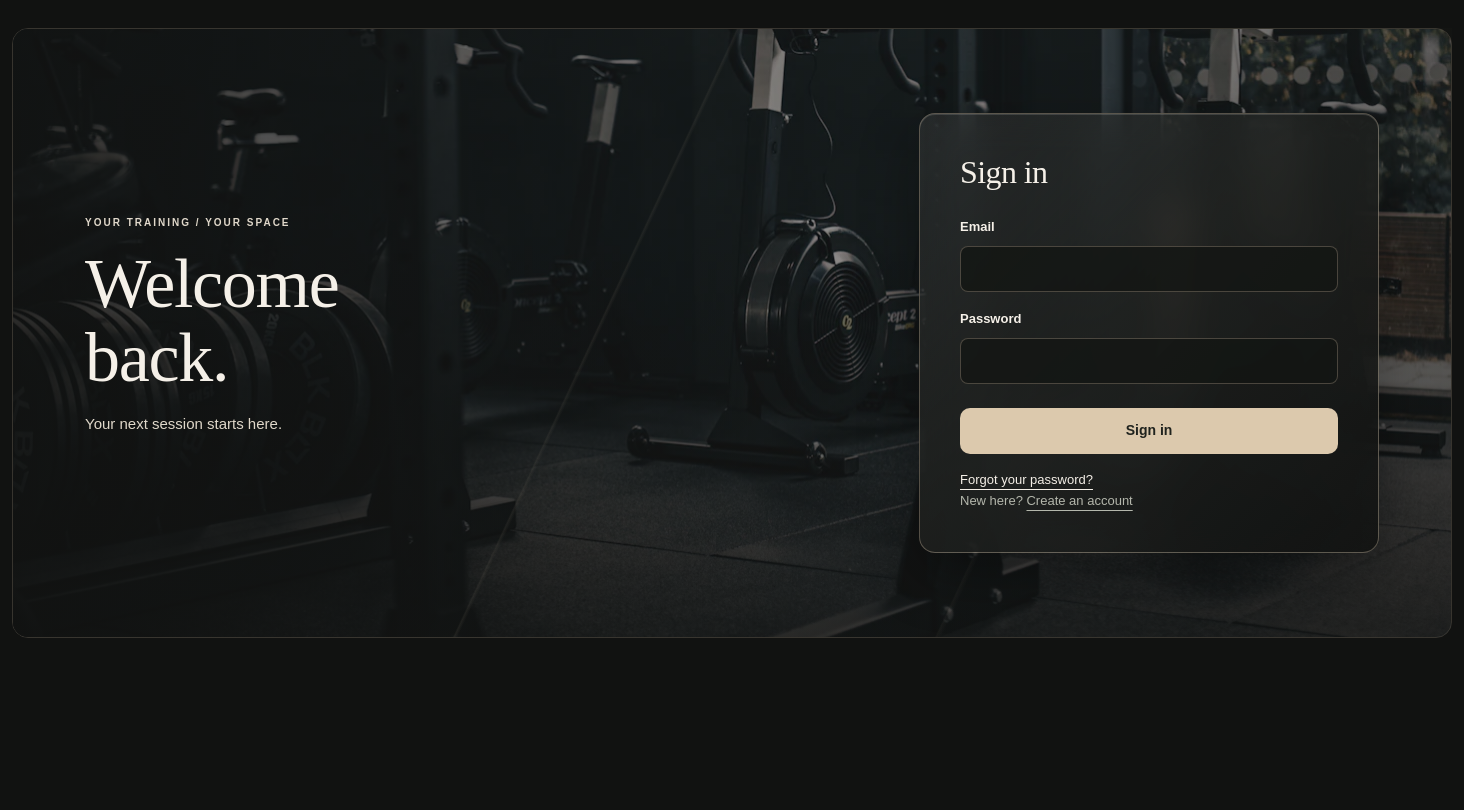
Test case: failed login stays on the form and does not expose server error details
The width and height of the screenshot is (1464, 810).
In the field labelled "Email": (1149, 269) [960,246,1338,292], type "example@example.test"
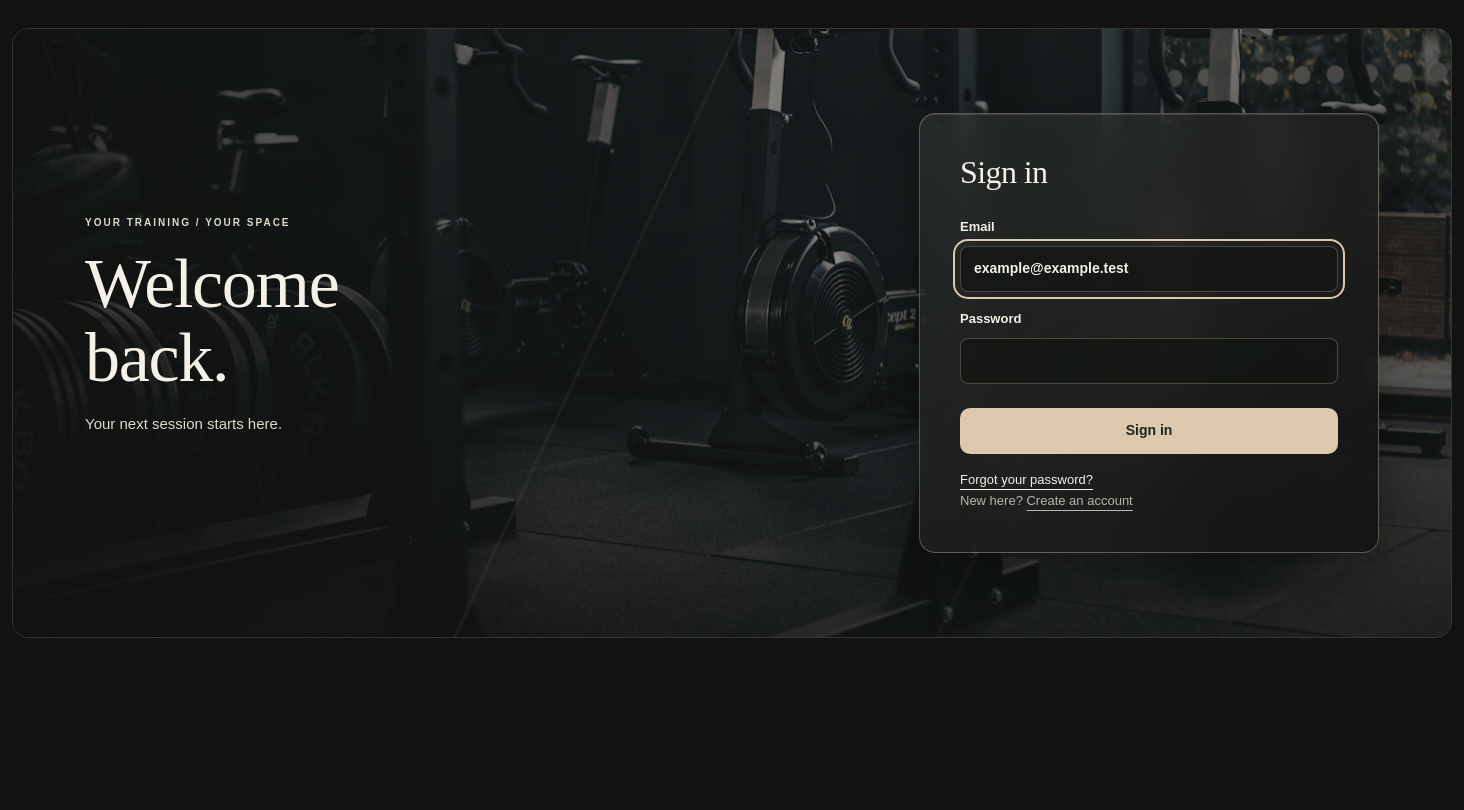
In the password field labelled "Password": (1149, 361) [960,338,1338,384], type "synthetic-test-only-password"
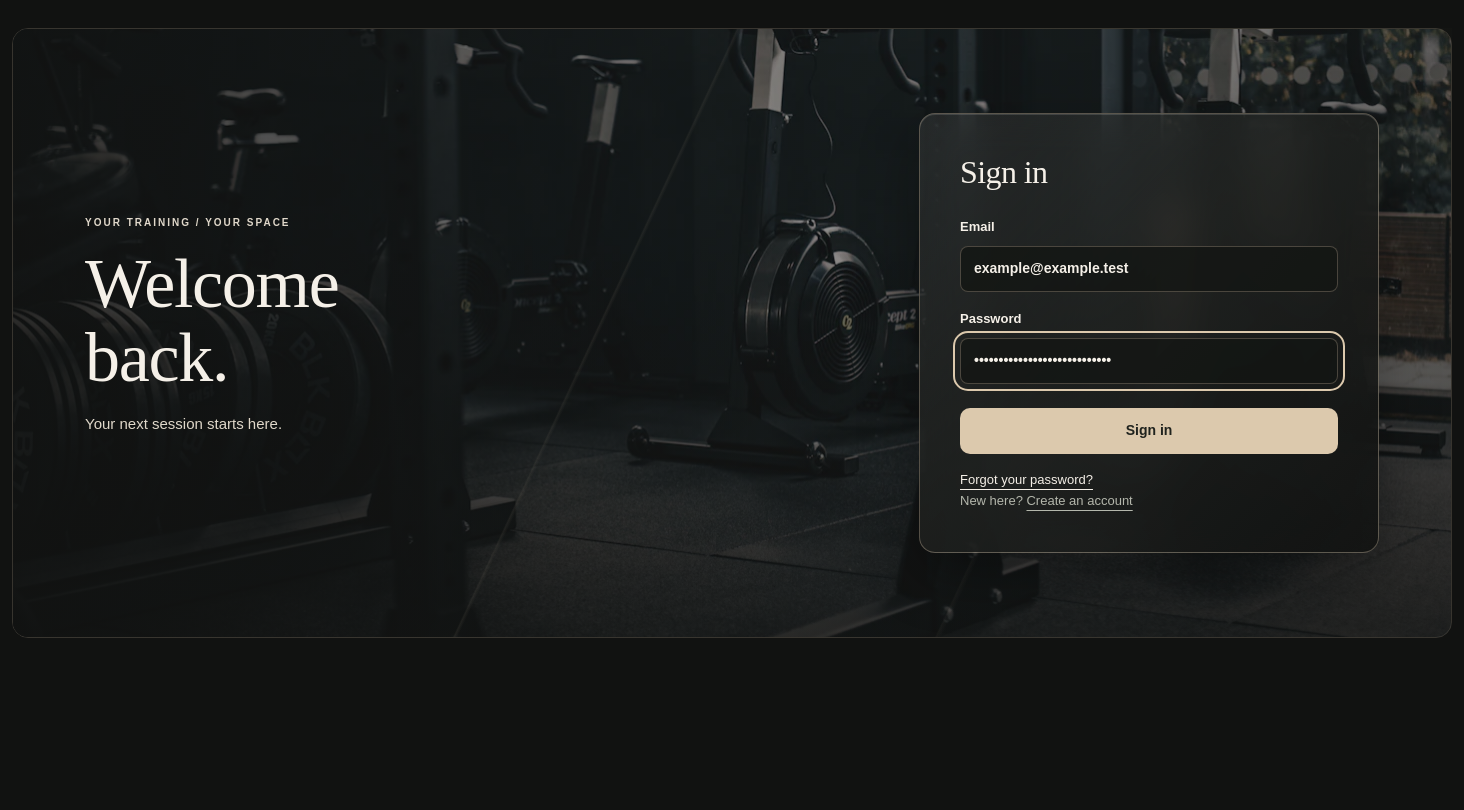
Click the button "Sign in": (1149, 431) [960,408,1338,454]
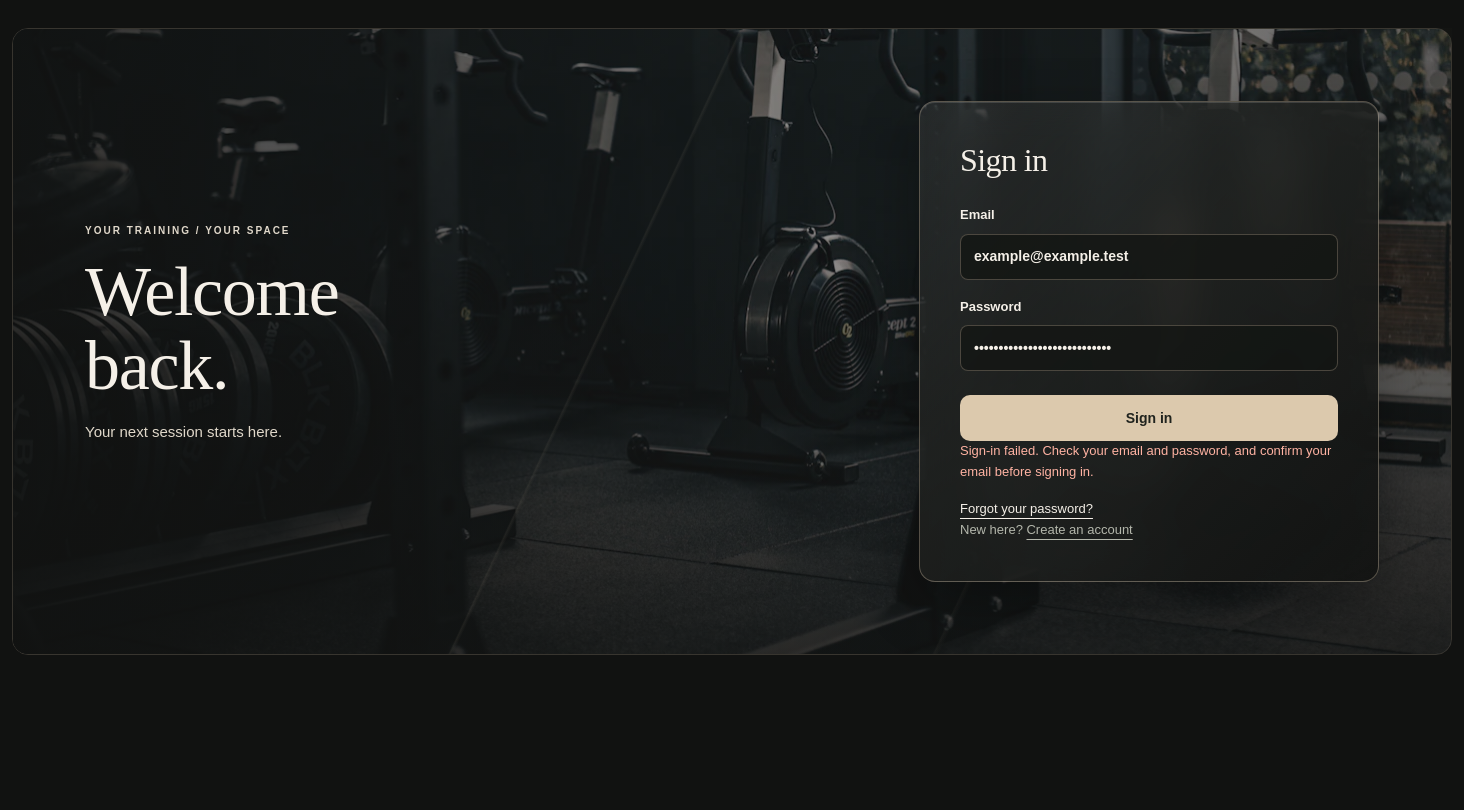
Expected: the button "Sign in" is enabled, [960,395,1338,441]
Result: the message shows "Sign-in failed" at [960,443,1331,479]
